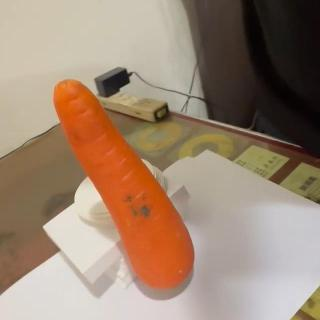carrot: (52, 78, 196, 292)
